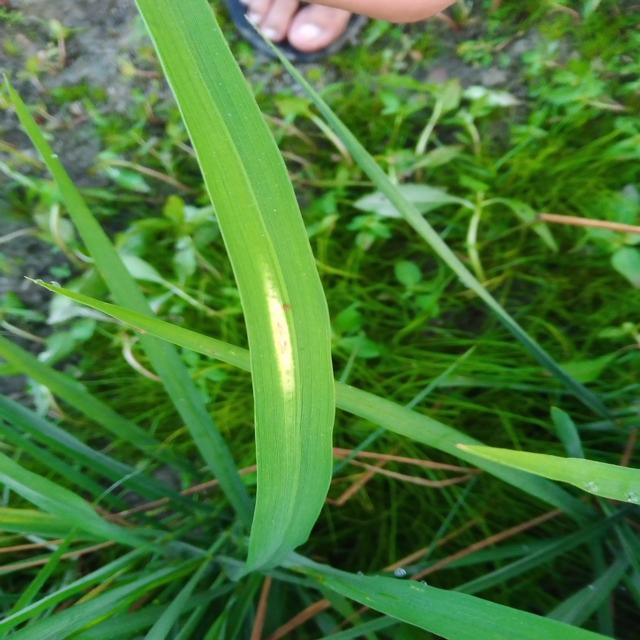Bacterial leaf blight: (247, 260, 318, 419)
